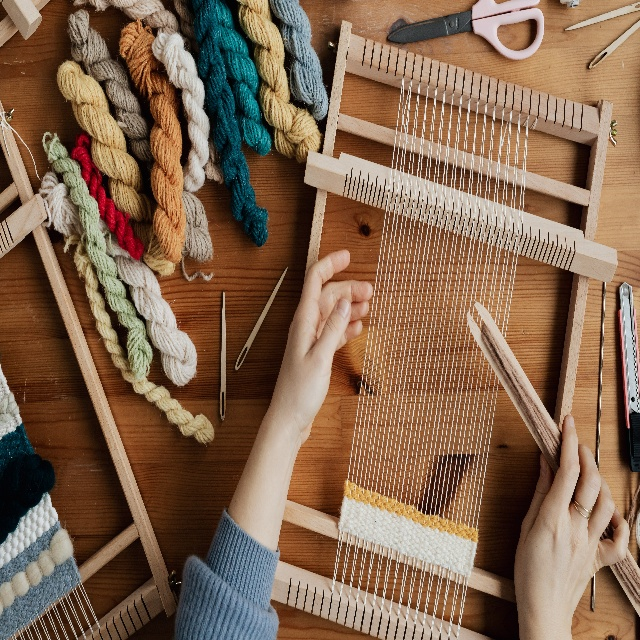Sin_guantes: (512, 414, 622, 637), (271, 250, 373, 439)
